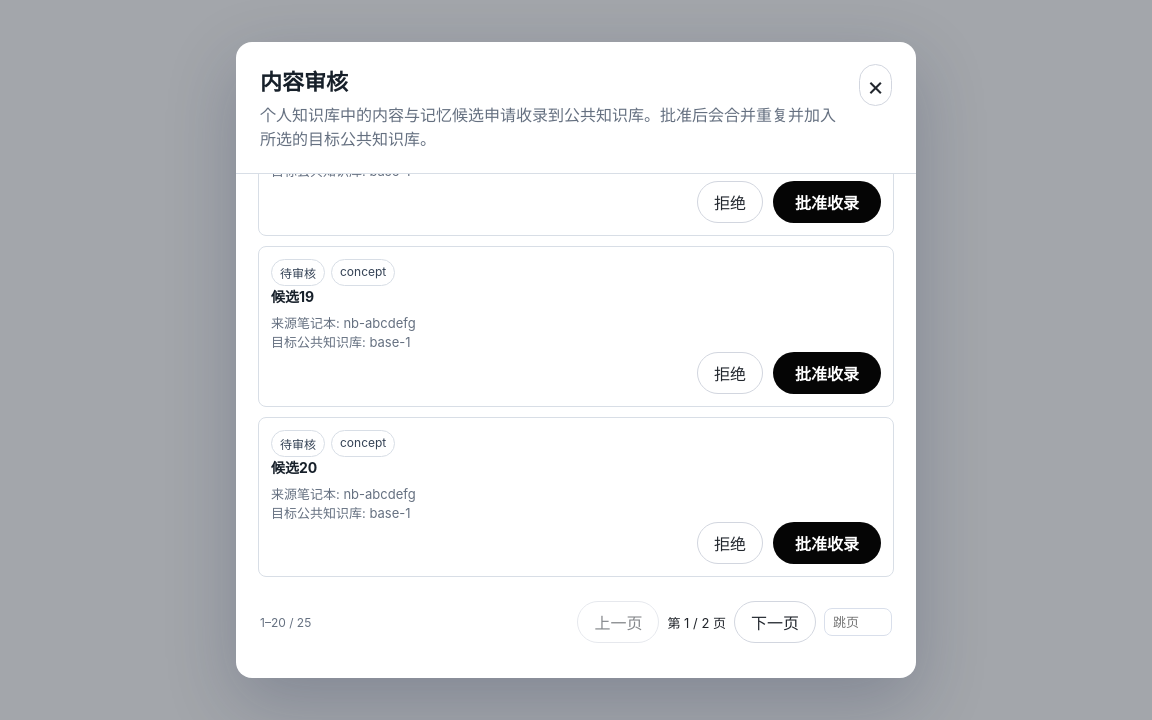
候选超过一页时分页展示，翻页后显示下一批候选
(page scrolled)
Check: the text "1–20 / 25" is shown, box top-left (260, 615), bottom-right (311, 630)
What coordinates should you click on to do the following:
click the button "下一页"
I would click on:
 (775, 622)
Its box is top-left (734, 601), bottom-right (816, 643).
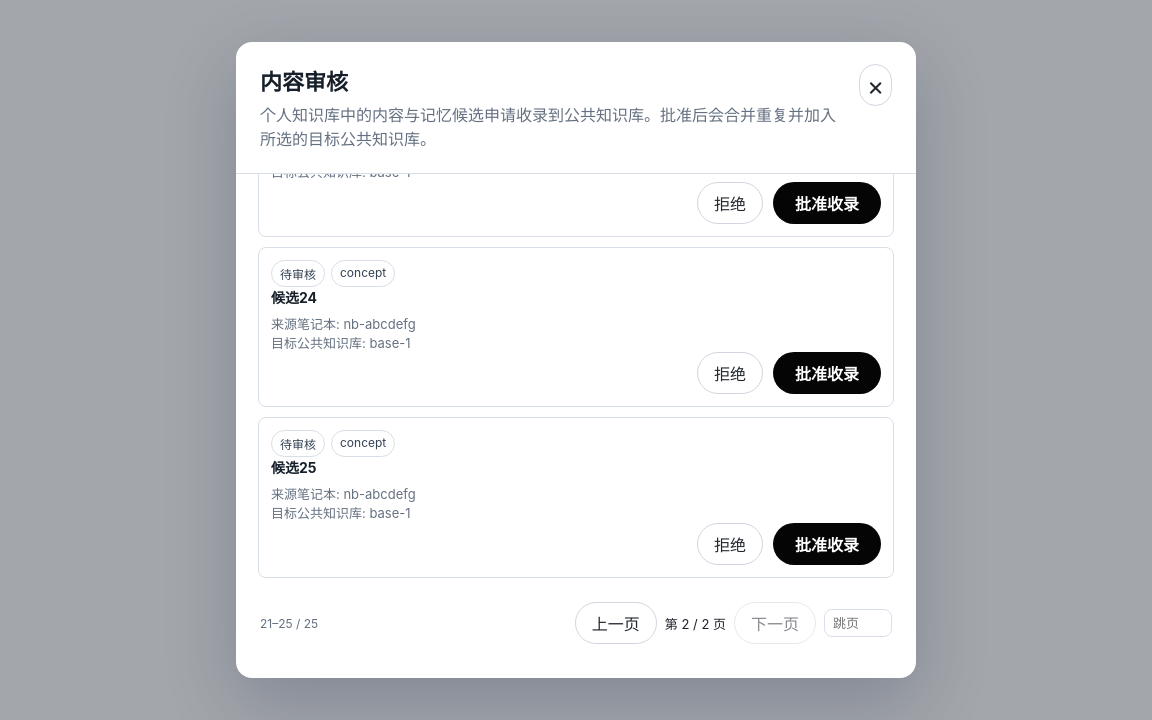
Check: the heading "候选25" is shown, box top-left (271, 459), bottom-right (316, 476)
Check: the button "下一页" is disabled, box top-left (734, 602), bottom-right (816, 644)
